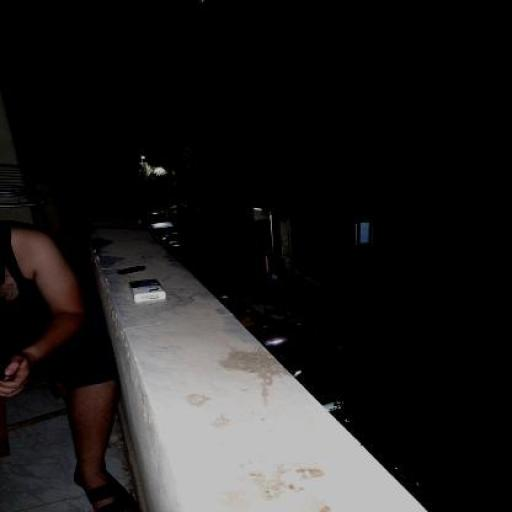street light: (252, 207, 282, 317)
